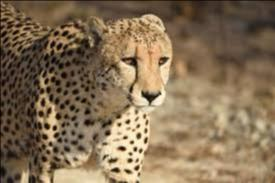Non_Gorille: (3, 0, 186, 181)
